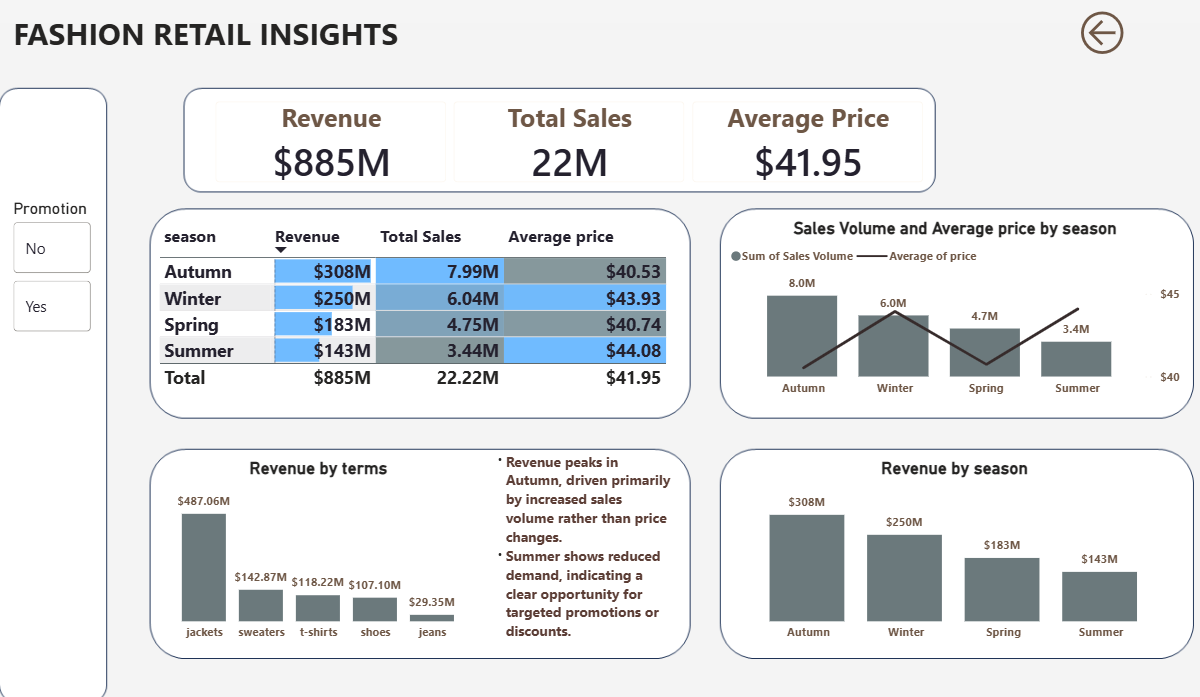

What the dashboard file says about the page in this screenshot:
{"tool":"powerbi","page":{"name":"SEASONAL ANALYSIS","canvas":[1280,800],"ordinal":1},"visuals":[{"type":"cardVisual","fields":{"Data":["Business_sales_EDA.Revenue","Sum(Business_sales_EDA.Sales Volume)","Avg(Business_sales_EDA.price)"]},"box":[213.3,101.9,786.2,121],"z":0},{"type":"advancedSlicerVisual","fields":{"Values":["Business_sales_EDA.Promotion"]},"box":[11.1,222.8,92.3,146.4],"z":1000},{"type":"textbox","box":[11.1,18.9,424.7,58.4],"z":2000},{"type":"tableEx","fields":{"Values":["Business_sales_EDA.season","Business_sales_EDA.Revenue","Sum(Business_sales_EDA.Sales Volume)","Avg(Business_sales_EDA.price)"]},"box":[166.3,244,558.4,197],"z":3000},{"type":"lineStackedColumnComboChart","title":"Sales Volume and Average price by season","fields":{"Category":["Business_sales_EDA.season"],"Y":["Sum(Business_sales_EDA.Sales Volume)"],"Y2":["Avg(Business_sales_EDA.price)"]},"box":[771.9,243.5,487,197.4],"z":4000},{"type":"columnChart","fields":{"Category":["Business_sales_EDA.terms"],"Y":["Business_sales_EDA.Revenue"]},"box":[166.3,498.8,348.8,202.4],"z":5000},{"type":"columnChart","fields":{"Category":["Business_sales_EDA.season"],"Y":["Business_sales_EDA.Revenue"]},"box":[771.7,498.8,486.2,202.4],"z":6000},{"type":"actionButton","box":[1142.2,18.1,115.7,57.8],"z":7000},{"type":"textbox","box":[515.1,486.2,204.2,215.1],"z":8000}]}

Visuals, with their boxes on the page's 1280x800 design canvas (x1, y1, x2, y2). These are canvas units, not pixel positions in the 1200x697 screenshot, which may show the page scaled, cropped or inside an application window:
cardVisual - Business_sales_EDA.Revenue x Sum(Business_sales_EDA.Sales Volume): <box>213,102,1000,223</box>
advancedSlicerVisual - Business_sales_EDA.Promotion: <box>11,223,103,369</box>
textbox: <box>11,19,436,77</box>
tableEx - Business_sales_EDA.season x Business_sales_EDA.Revenue: <box>166,244,725,441</box>
"Sales Volume and Average price by season" lineStackedColumnComboChart: <box>772,244,1259,441</box>
columnChart - Business_sales_EDA.terms x Business_sales_EDA.Revenue: <box>166,499,515,701</box>
columnChart - Business_sales_EDA.season x Business_sales_EDA.Revenue: <box>772,499,1258,701</box>
actionButton: <box>1142,18,1258,76</box>
textbox: <box>515,486,719,701</box>
